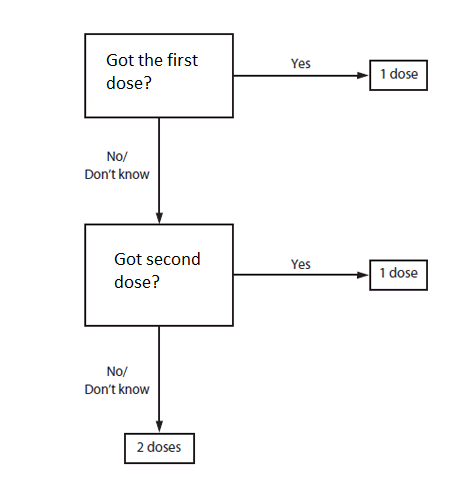arrow: (232, 71, 371, 81), (153, 119, 166, 225), (234, 270, 369, 280), (153, 324, 164, 434)
process: (82, 221, 237, 330), (81, 31, 237, 123), (122, 431, 197, 467), (366, 257, 430, 294), (366, 57, 430, 93)
text: (104, 50, 200, 91), (113, 250, 201, 292), (81, 150, 150, 183), (84, 364, 150, 396), (135, 439, 183, 455), (377, 65, 419, 82), (377, 265, 419, 280), (288, 55, 313, 71), (287, 256, 311, 271)
